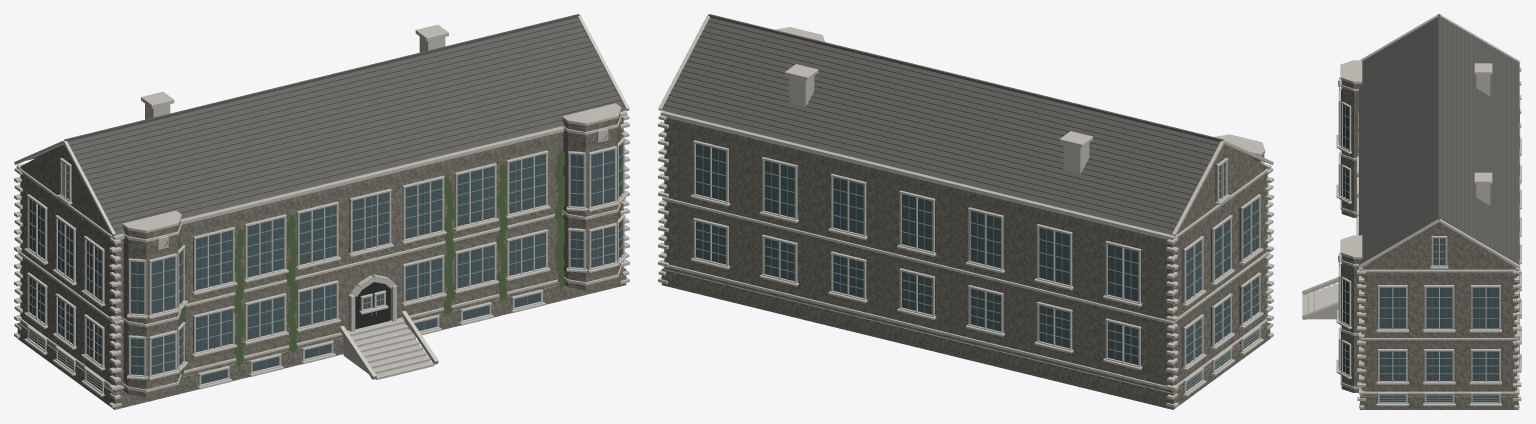
The picture shows the model from 3 angles, left to right: view 1: azimuth 30°, elevation 25°; view 2: azimuth 150°, elevation 25°; view 3: azimuth 270°, elevation 25°; orthographic projection. The views are drawn at different scales.
Parts seen in each view (by area): view 1: roof__roof, main_masonry__stone, roof_tile_courses__roofline, upper_front_windows__glass, projecting_polygonal_bays__stone, upper_front_windows__trim, lower_front_windows__glass, ivy_irregular_patches__ivy, lower_front_windows__trim, side_grouped_windows__trim, foundation__stone, stringcourses__trim (+24 smaller); view 2: main_masonry__stone, roof__roof, rear_windows_estimated__glass, roof_tile_courses__roofline, rear_windows_estimated__trim, foundation__stone, stringcourses__trim, side_grouped_windows__trim, rear_windows_estimated__frame, side_grouped_windows__glass, corner_dressed_stone__trim, eaves__trim (+8 smaller); view 3: roof__roof, main_masonry__stone, roof_tile_courses__roofline, side_grouped_windows__glass, side_grouped_windows__trim, stone_gable_ends__stone, projecting_polygonal_bays__stone, corner_dressed_stone__trim, stringcourses__trim, bay_coping_bands__trim, side_grouped_windows__frame, foundation__stone (+14 smaller).
Boxes of the visible parts, bbox=[...] form: roof__roof: bbox=[27, 17, 626, 234]; main_masonry__stone: bbox=[20, 111, 623, 392]; roof_tile_courses__roofline: bbox=[36, 21, 623, 229]; upper_front_windows__glass: bbox=[196, 154, 545, 289]; projecting_polygonal_bays__stone: bbox=[123, 113, 620, 397]; upper_front_windows__trim: bbox=[192, 150, 550, 295]; lower_front_windows__glass: bbox=[196, 232, 545, 352]; ivy_irregular_patches__ivy: bbox=[180, 148, 564, 379]; lower_front_windows__trim: bbox=[192, 229, 550, 357]; side_grouped_windows__trim: bbox=[24, 194, 105, 396]; foundation__stone: bbox=[17, 267, 626, 409]; stringcourses__trim: bbox=[18, 117, 625, 390]; main_masonry__stone: bbox=[664, 111, 1267, 392]; roof__roof: bbox=[661, 17, 1258, 234]; rear_windows_estimated__glass: bbox=[696, 144, 1138, 364]; roof_tile_courses__roofline: bbox=[664, 21, 1251, 229]; rear_windows_estimated__trim: bbox=[691, 140, 1142, 370]; foundation__stone: bbox=[661, 267, 1270, 409]; stringcourses__trim: bbox=[662, 116, 1269, 390]; side_grouped_windows__trim: bbox=[1182, 194, 1263, 396]; rear_windows_estimated__frame: bbox=[695, 145, 1138, 363]; side_grouped_windows__glass: bbox=[1186, 198, 1258, 390]; corner_dressed_stone__trim: bbox=[658, 115, 1273, 407]; eaves__trim: bbox=[660, 111, 1271, 239]; roof__roof: bbox=[1359, 17, 1519, 264]; main_masonry__stone: bbox=[1361, 259, 1516, 396]; roof_tile_courses__roofline: bbox=[1363, 18, 1515, 262]; side_grouped_windows__glass: bbox=[1379, 287, 1498, 402]; side_grouped_windows__trim: bbox=[1376, 285, 1501, 406]; stone_gable_ends__stone: bbox=[1362, 222, 1515, 268]; projecting_polygonal_bays__stone: bbox=[1341, 80, 1362, 392]; corner_dressed_stone__trim: bbox=[1357, 67, 1521, 408]; stringcourses__trim: bbox=[1360, 269, 1518, 394]; bay_coping_bands__trim: bbox=[1340, 60, 1362, 389]; side_grouped_windows__frame: bbox=[1379, 288, 1498, 402]; foundation__stone: bbox=[1360, 373, 1518, 409].
Size of the model in its own units: 37.76 by 16.34 by 16.98.
Materials: 9 (1 with a texture image).
